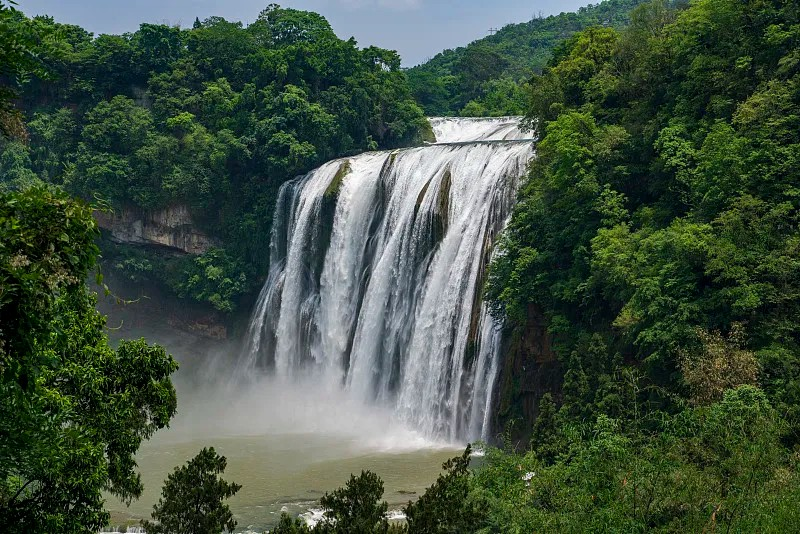Huangguoshu: (246, 117, 541, 447)
